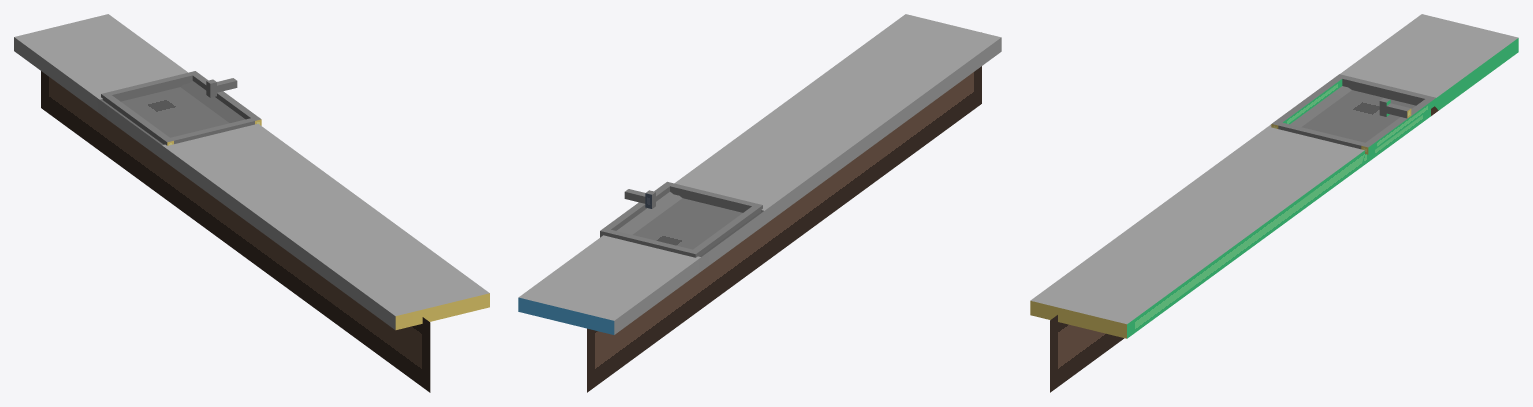
File: just_the_counter.gltf
3 views of the same model, side by side, from view 1: azimuth 30°, elevation 25°; view 2: azimuth 150°, elevation 25°; view 3: azimuth 330°, elevation 25° (orthographic). The views are drawn at different scales.
Visible parts, largest first — view 1: cuboid-col (×6); view 2: cuboid-col (×6); view 3: cuboid-col (×6).
Boxes of the visible parts, <box> form: cuboid-col (×6): <box>14,14,489,392</box>; cuboid-col (×6): <box>518,14,1001,392</box>; cuboid-col (×6): <box>1030,14,1518,392</box>.
Bounding box in the file's own units: 0.0969 × 0.0875 × 0.625.
Materials: 1 (1 with a texture image).
